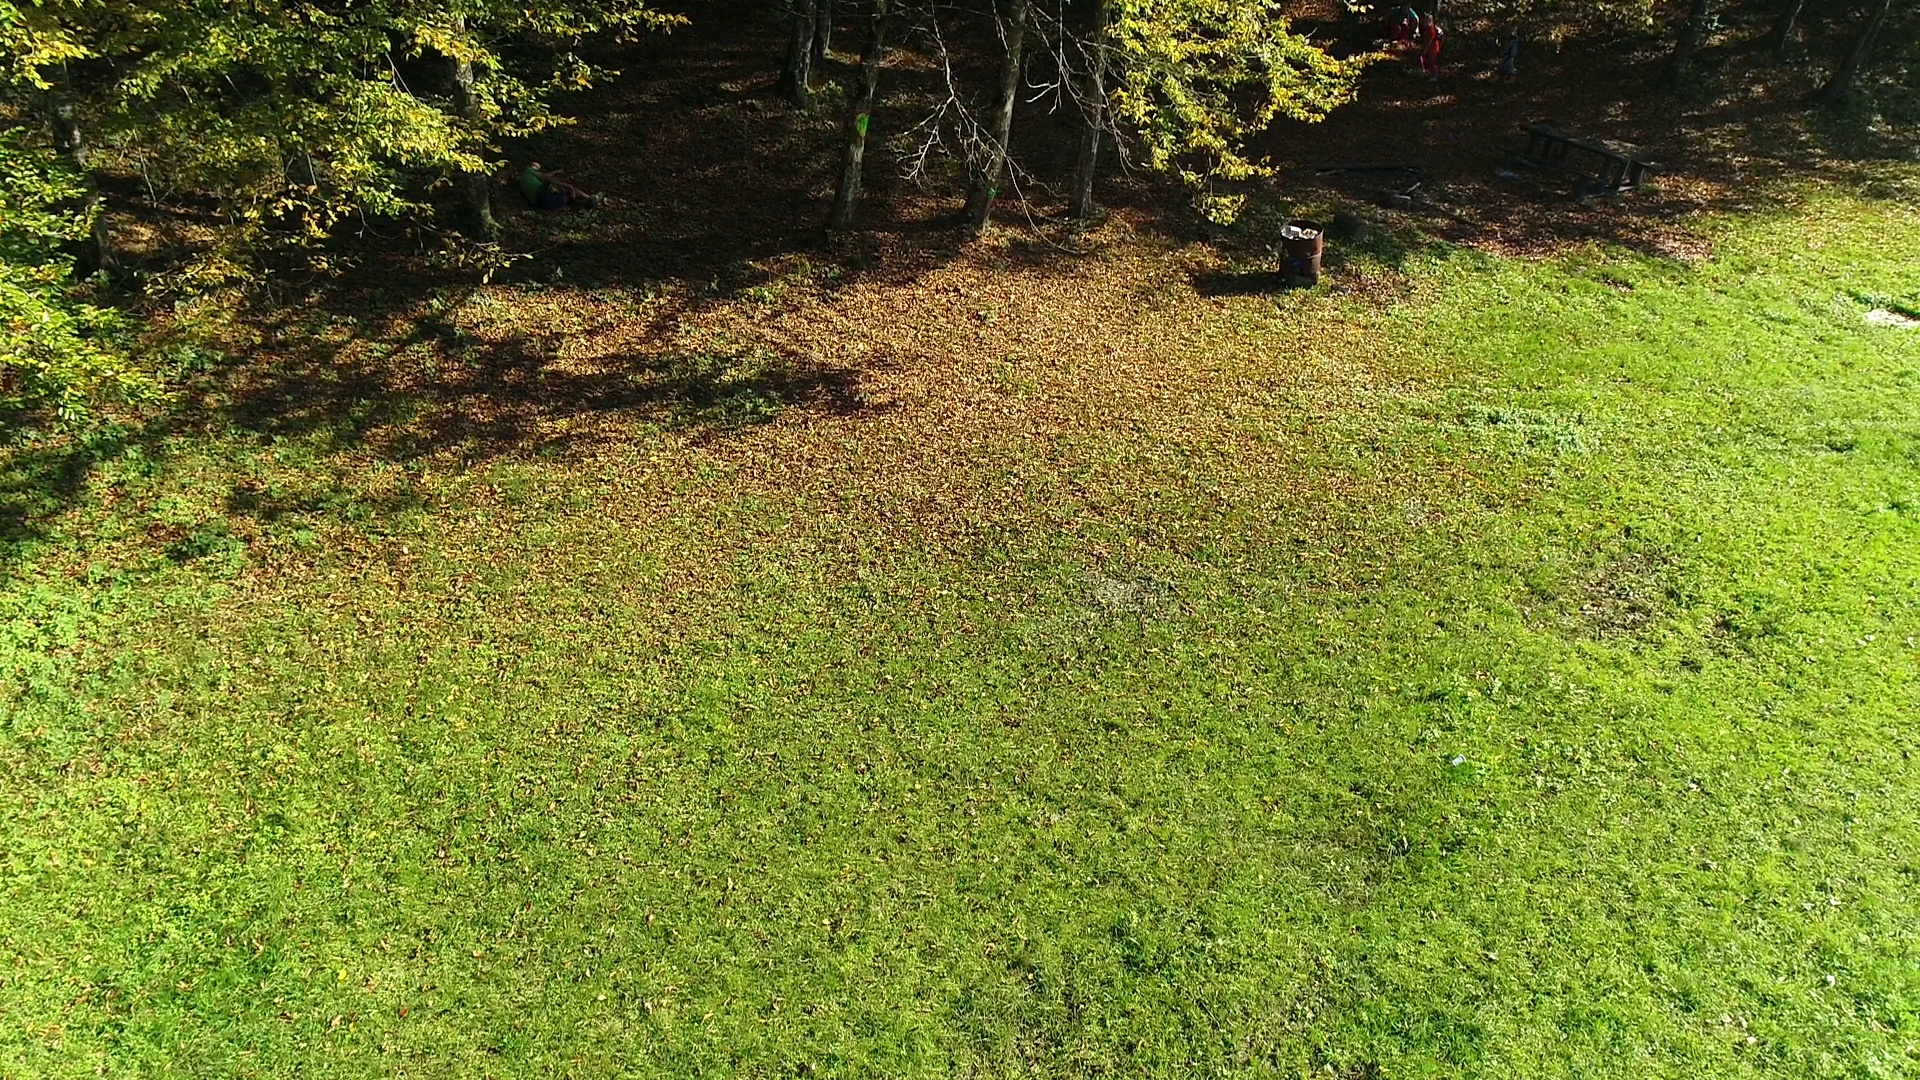person: (520, 160, 609, 211), (1484, 22, 1521, 87), (1420, 8, 1443, 84), (1400, 1, 1420, 76)
